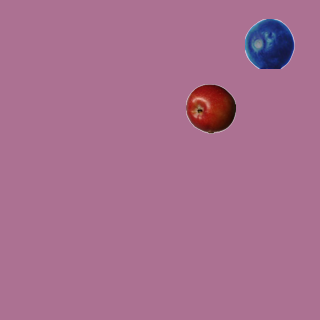Apple Braeburn: (185, 83, 235, 133)
Huckleberry: (244, 18, 294, 68)
